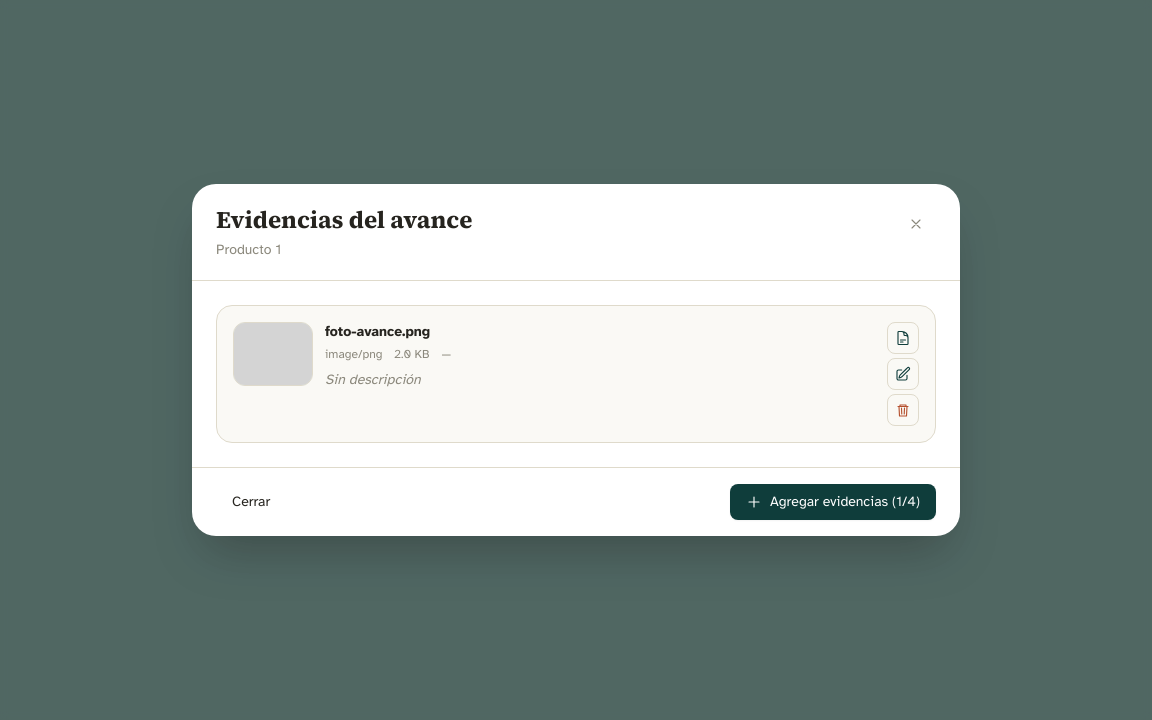
Test case: eliminación de evidencias › muestra error cuando la eliminación falla
The width and height of the screenshot is (1152, 720).
Click the button titled "Eliminar evidencia": point(903, 410) [887,394,919,426]
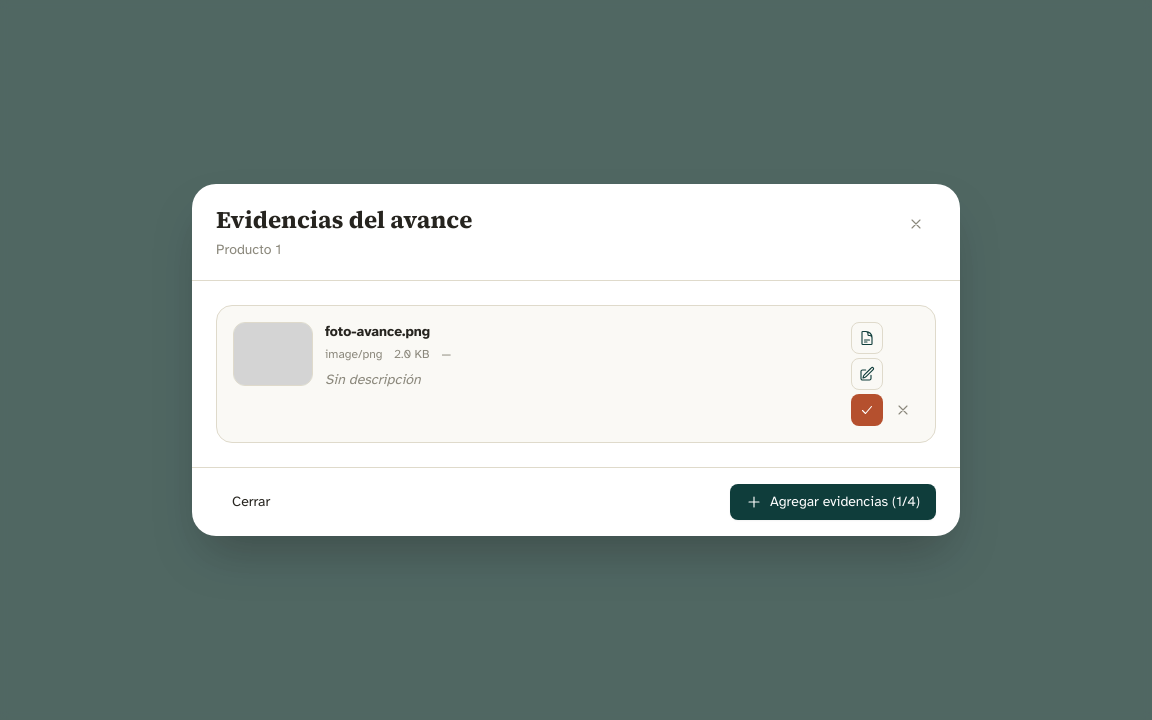
Click the button titled "Confirmar eliminación": point(867, 410) [851,394,883,426]
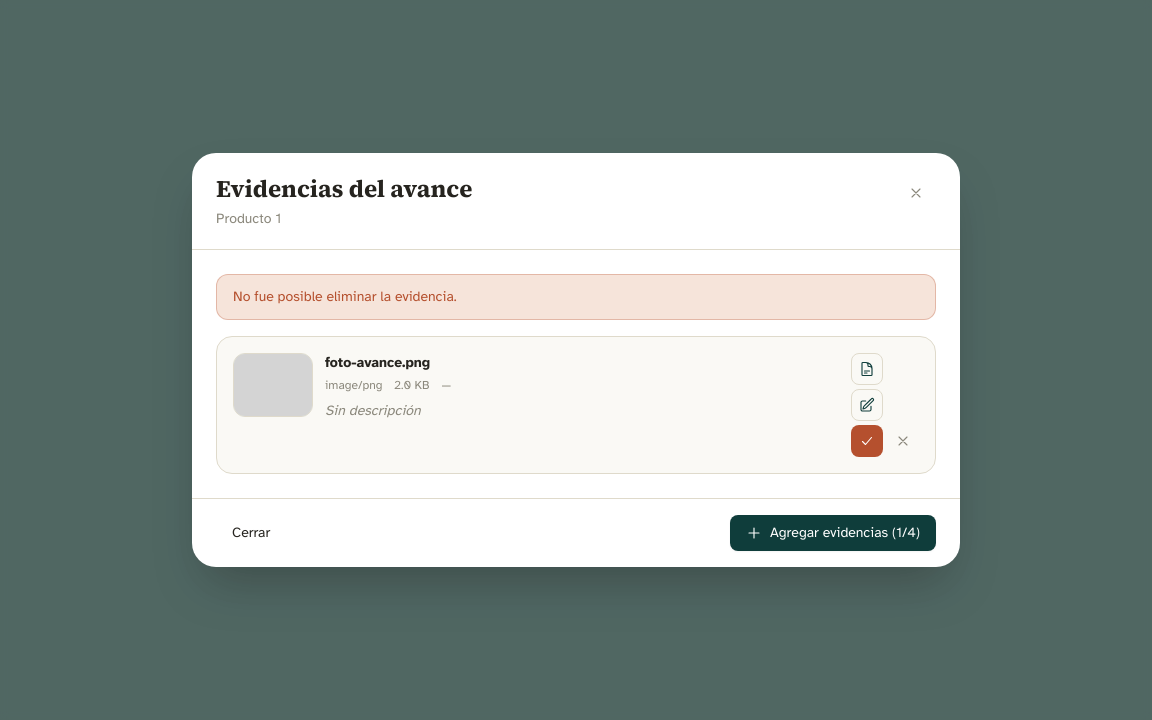
Expected: the text "foto-avance.png" is shown, [325,354,430,371]
Now the message reads "No fue posible eliminar la evidencia.", box [233,288,457,305]
